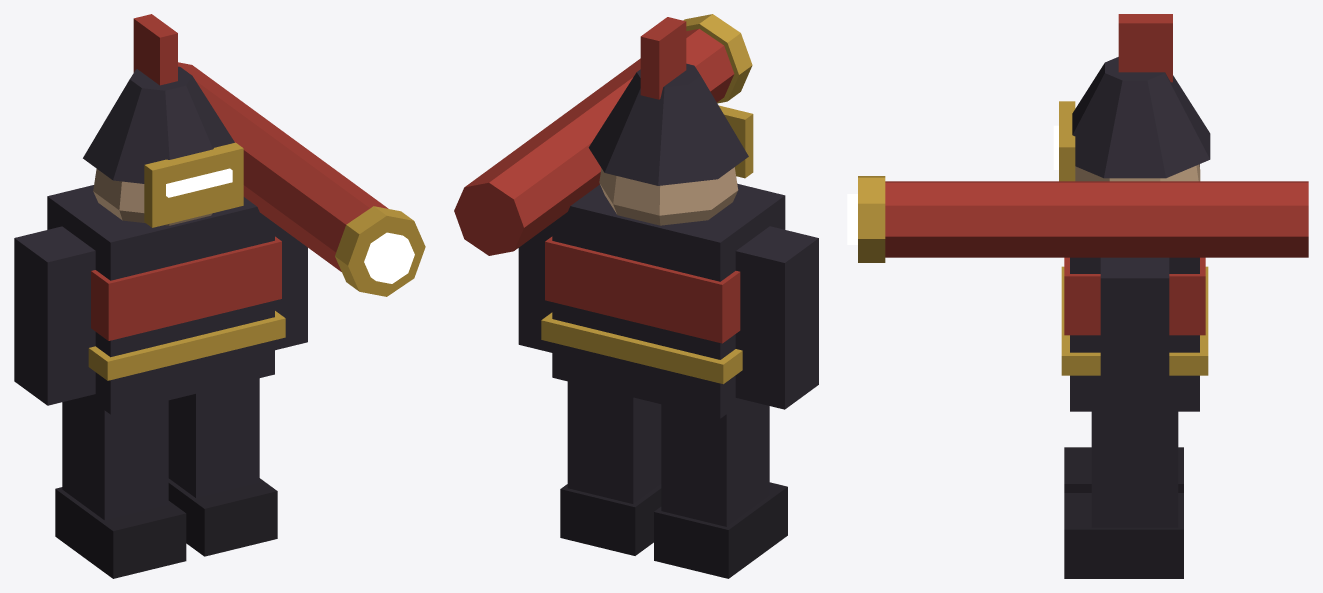
File: unit_sniper.glb
The picture shows the model from 3 angles, left to right: view 1: azimuth 30°, elevation 25°; view 2: azimuth 150°, elevation 25°; view 3: azimuth 270°, elevation 25°; orthographic projection. The views are drawn at different scales.
Visible parts, largest first — view 1: body, arm_r, leg_l, leg_r, arm_l, glow; view 2: body, arm_r, leg_l, leg_r, arm_l; view 3: arm_r, body, leg_r, leg_l, glow.
Boxes of the visible parts, left/top/right/bottom form: body: left=47, top=14, right=285, bottom=414; arm_r: left=178, top=62, right=425, bottom=350; leg_l: left=55, top=396, right=186, bottom=578; leg_r: left=168, top=378, right=277, bottom=556; arm_l: left=14, top=226, right=95, bottom=405; glow: left=166, top=168, right=414, bottom=283; body: left=541, top=17, right=785, bottom=418; arm_r: left=454, top=14, right=752, bottom=352; leg_l: left=654, top=400, right=787, bottom=578; leg_r: left=560, top=381, right=661, bottom=555; arm_l: left=735, top=226, right=818, bottom=409; arm_r: left=858, top=176, right=1308, bottom=425; body: left=1059, top=14, right=1210, bottom=411; leg_r: left=1064, top=411, right=1183, bottom=578; leg_l: left=1064, top=447, right=1183, bottom=492; glow: left=847, top=125, right=1058, bottom=244.
Bounding box in the file's own units: 0.57 × 1.05 × 0.85.
